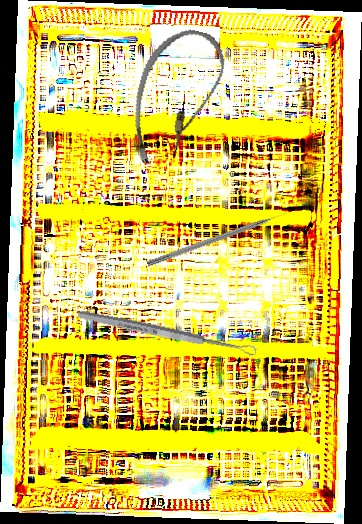Cannula: (121, 20, 232, 177)
Hook Surgical: (146, 207, 294, 269)
Surgical Spoon: (76, 308, 258, 358)
